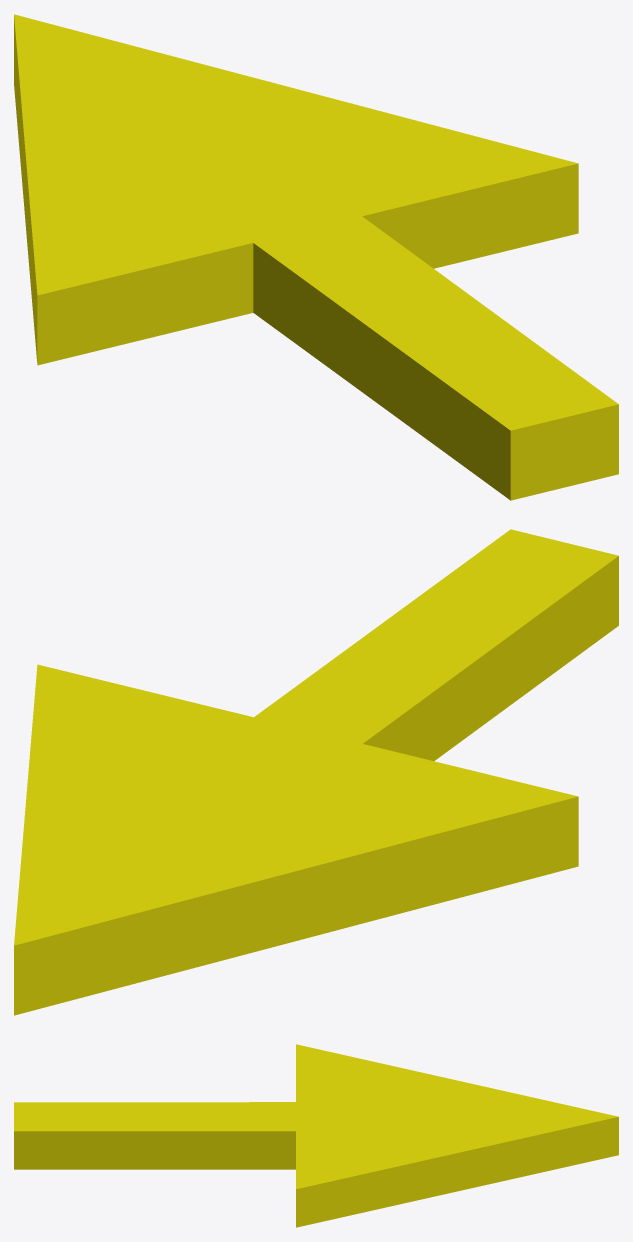
File: Arrow1.glb
3 views of the same model, one above another, from view 1: azimuth 30°, elevation 25°; view 2: azimuth 150°, elevation 25°; view 3: azimuth 270°, elevation 25° (orthographic). The views are drawn at different scales.
Visible parts, largest first — view 1: Cube; view 2: Cube; view 3: Cube.
Boxes of the visible parts, bbox=[...] form: Cube: bbox=[14, 14, 618, 500]; Cube: bbox=[14, 529, 618, 1015]; Cube: bbox=[14, 1044, 618, 1227].
Size of the model in its own units: 0.9736 by 0.1202 by 1.72.
